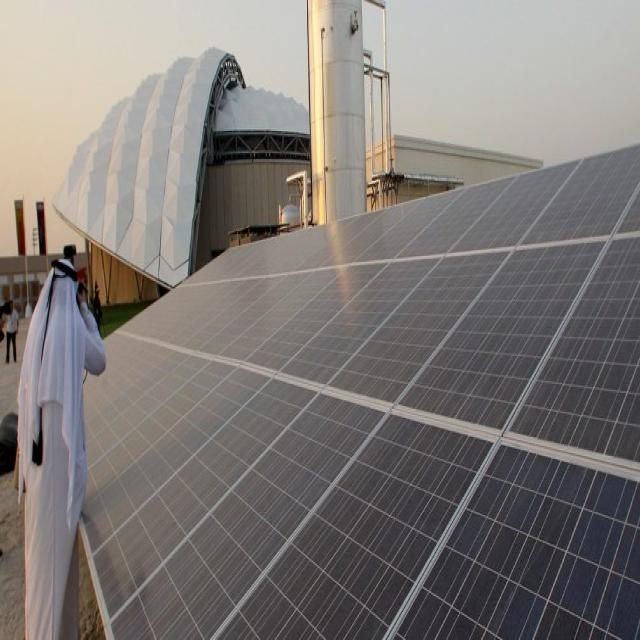dust-solar-panel: (80, 145, 640, 637)
